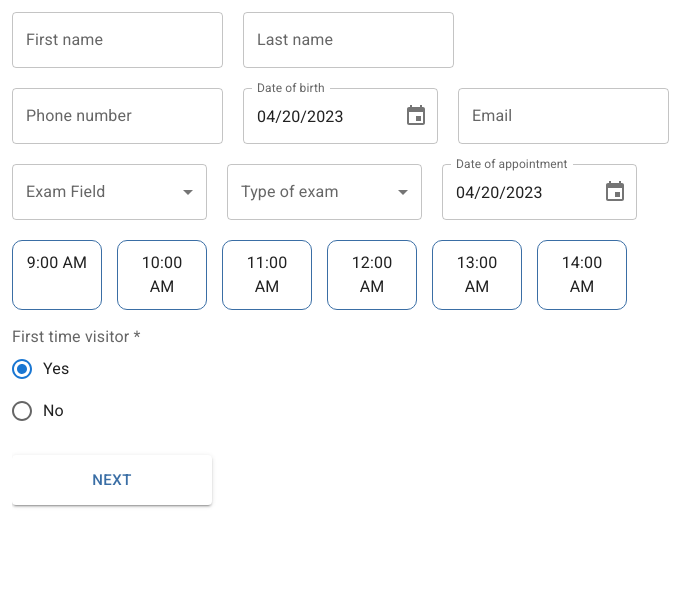
AppointmentForm › displays validation errors when fields are not filled out
This screenshot has width=686, height=594.
Click the button with test id "nextButton" at (112, 480), box x1=12 y1=455 x2=212 y2=505
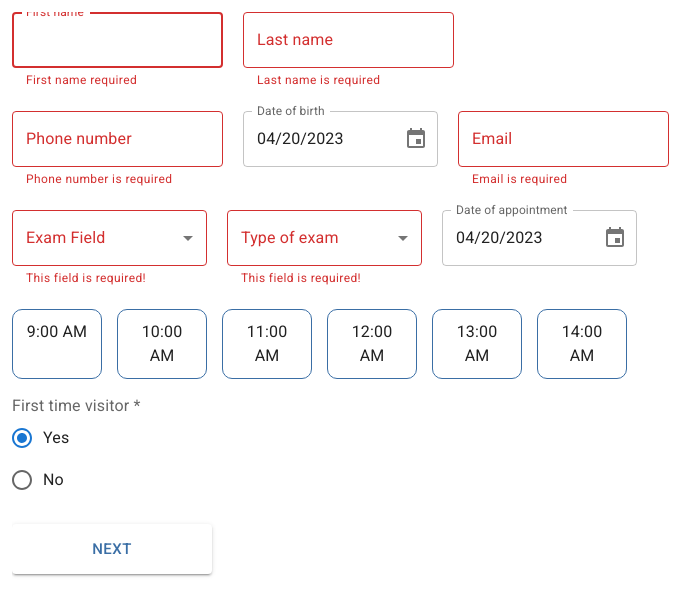
Check: the text "First name required" is shown, box x1=26 y1=73 x2=137 y2=87
Check: the text "Last name is required" is shown, box x1=257 y1=73 x2=380 y2=87
Check: the text "Phone number is required" is shown, box x1=26 y1=172 x2=172 y2=186
